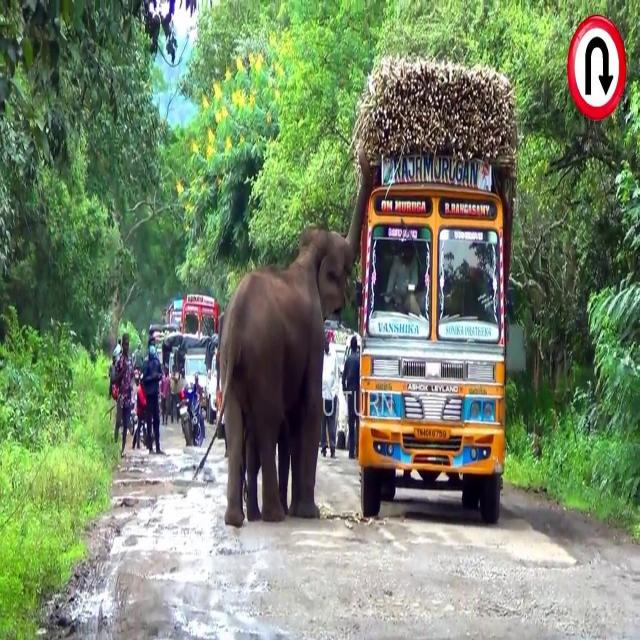Elephant: (215, 148, 373, 527)
